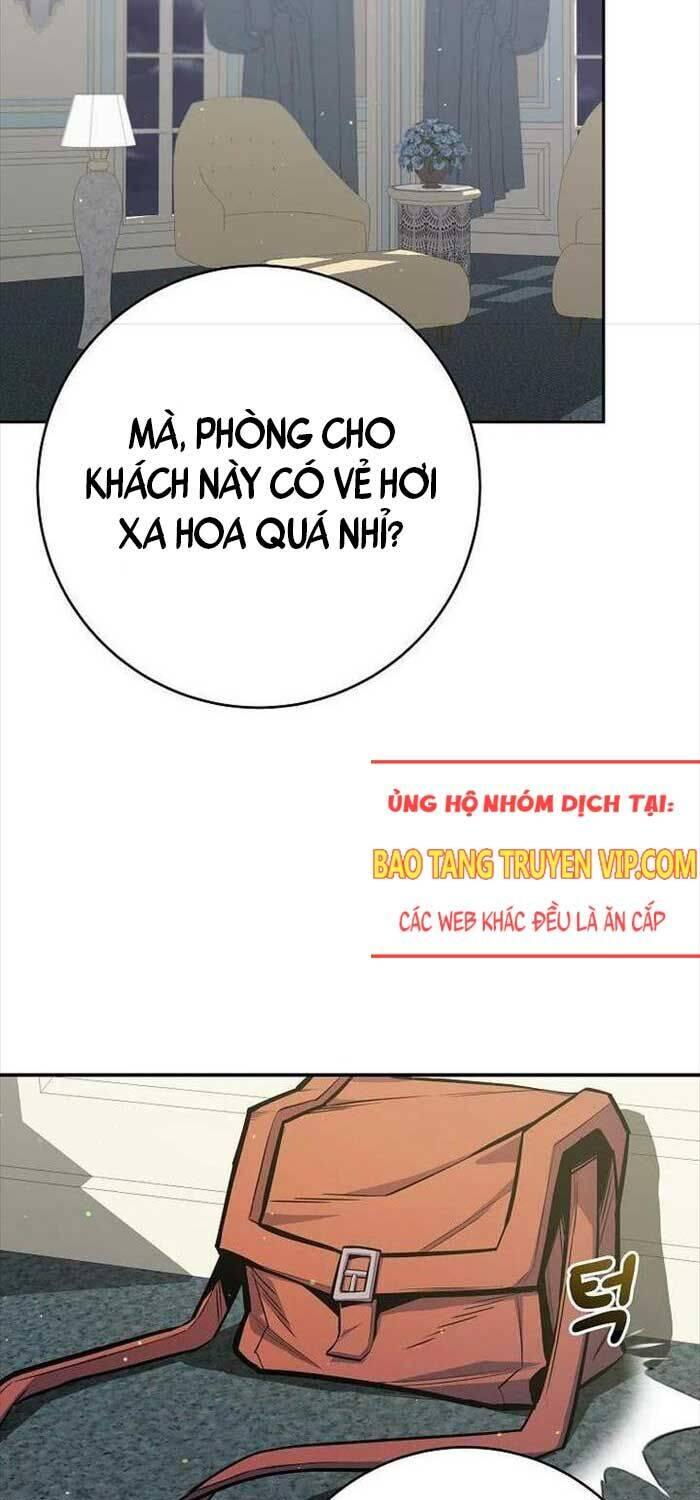quangcao: (370, 756, 700, 964)
